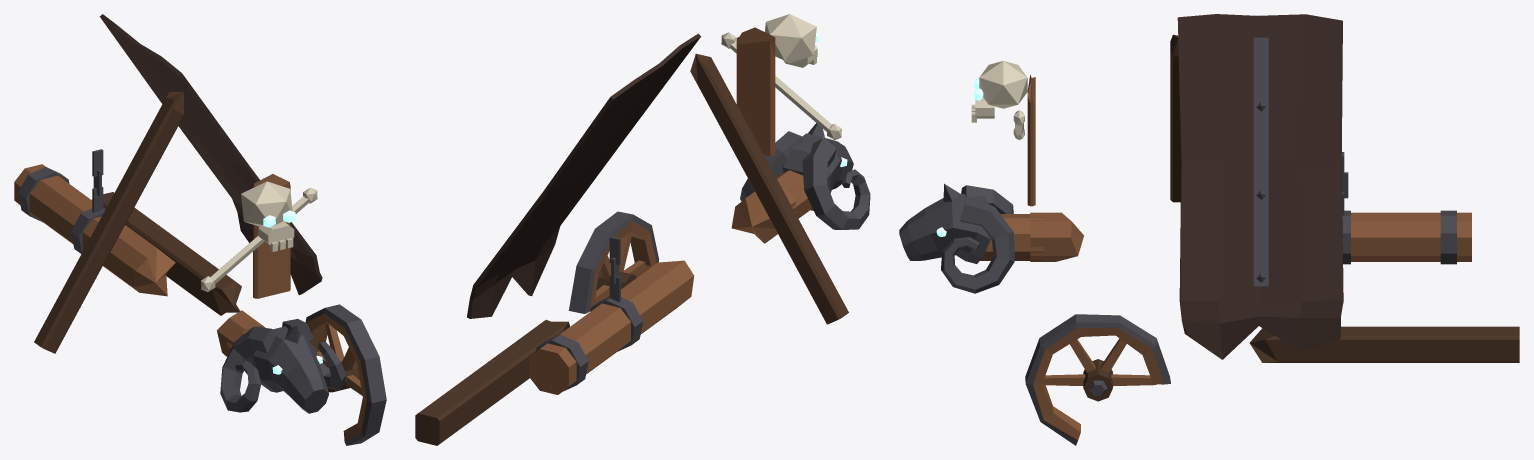
Rendered from Ramme_Truemmer.fbx.
3 renders of one model, left to right at view 1: azimuth 30°, elevation 25°; view 2: azimuth 150°, elevation 25°; view 3: azimuth 270°, elevation 25°, orthographic. The views are drawn at different scales.
Parts seen in each view (by area): view 1: Truemmer_06, Truemmer_07, Truemmer_05, Truemmer_04, Truemmer_02, Truemmer_03, Truemmer_08, Truemmer_01; view 2: Truemmer_05, Truemmer_07, Truemmer_06, Truemmer_04, Truemmer_03, Truemmer_02, Truemmer_01, Truemmer_08; view 3: Truemmer_05, Truemmer_06, Truemmer_03, Truemmer_02, Truemmer_07, Truemmer_08, Truemmer_04, Truemmer_01.
Part boxes in pixels (left/top/right/bottom): Truemmer_06: left=217, top=310, right=346, bottom=413; Truemmer_07: left=14, top=149, right=175, bottom=296; Truemmer_05: left=99, top=14, right=322, bottom=294; Truemmer_04: left=34, top=92, right=184, bottom=353; Truemmer_02: left=305, top=304, right=386, bottom=445; Truemmer_03: left=92, top=192, right=241, bottom=315; Truemmer_08: left=200, top=181, right=317, bottom=291; Truemmer_01: left=253, top=174, right=290, bottom=298; Truemmer_05: left=467, top=33, right=701, bottom=318; Truemmer_07: left=529, top=236, right=694, bottom=394; Truemmer_06: left=731, top=123, right=870, bottom=243; Truemmer_04: left=690, top=53, right=848, bottom=324; Truemmer_03: left=415, top=319, right=569, bottom=445; Truemmer_02: left=568, top=211, right=659, bottom=313; Truemmer_01: left=736, top=27, right=775, bottom=156; Truemmer_08: left=721, top=14, right=841, bottom=140; Truemmer_05: left=1177, top=14, right=1343, bottom=359; Truemmer_06: left=899, top=183, right=1083, bottom=293; Truemmer_03: left=1249, top=326, right=1519, bottom=362; Truemmer_02: left=1025, top=314, right=1170, bottom=445; Truemmer_07: left=1341, top=152, right=1471, bottom=264; Truemmer_08: left=971, top=61, right=1027, bottom=140; Truemmer_04: left=1170, top=34, right=1181, bottom=202; Truemmer_01: left=1027, top=75, right=1035, bottom=206.
Size of the model in its own units: 2.46 by 2.99 by 4.56.
